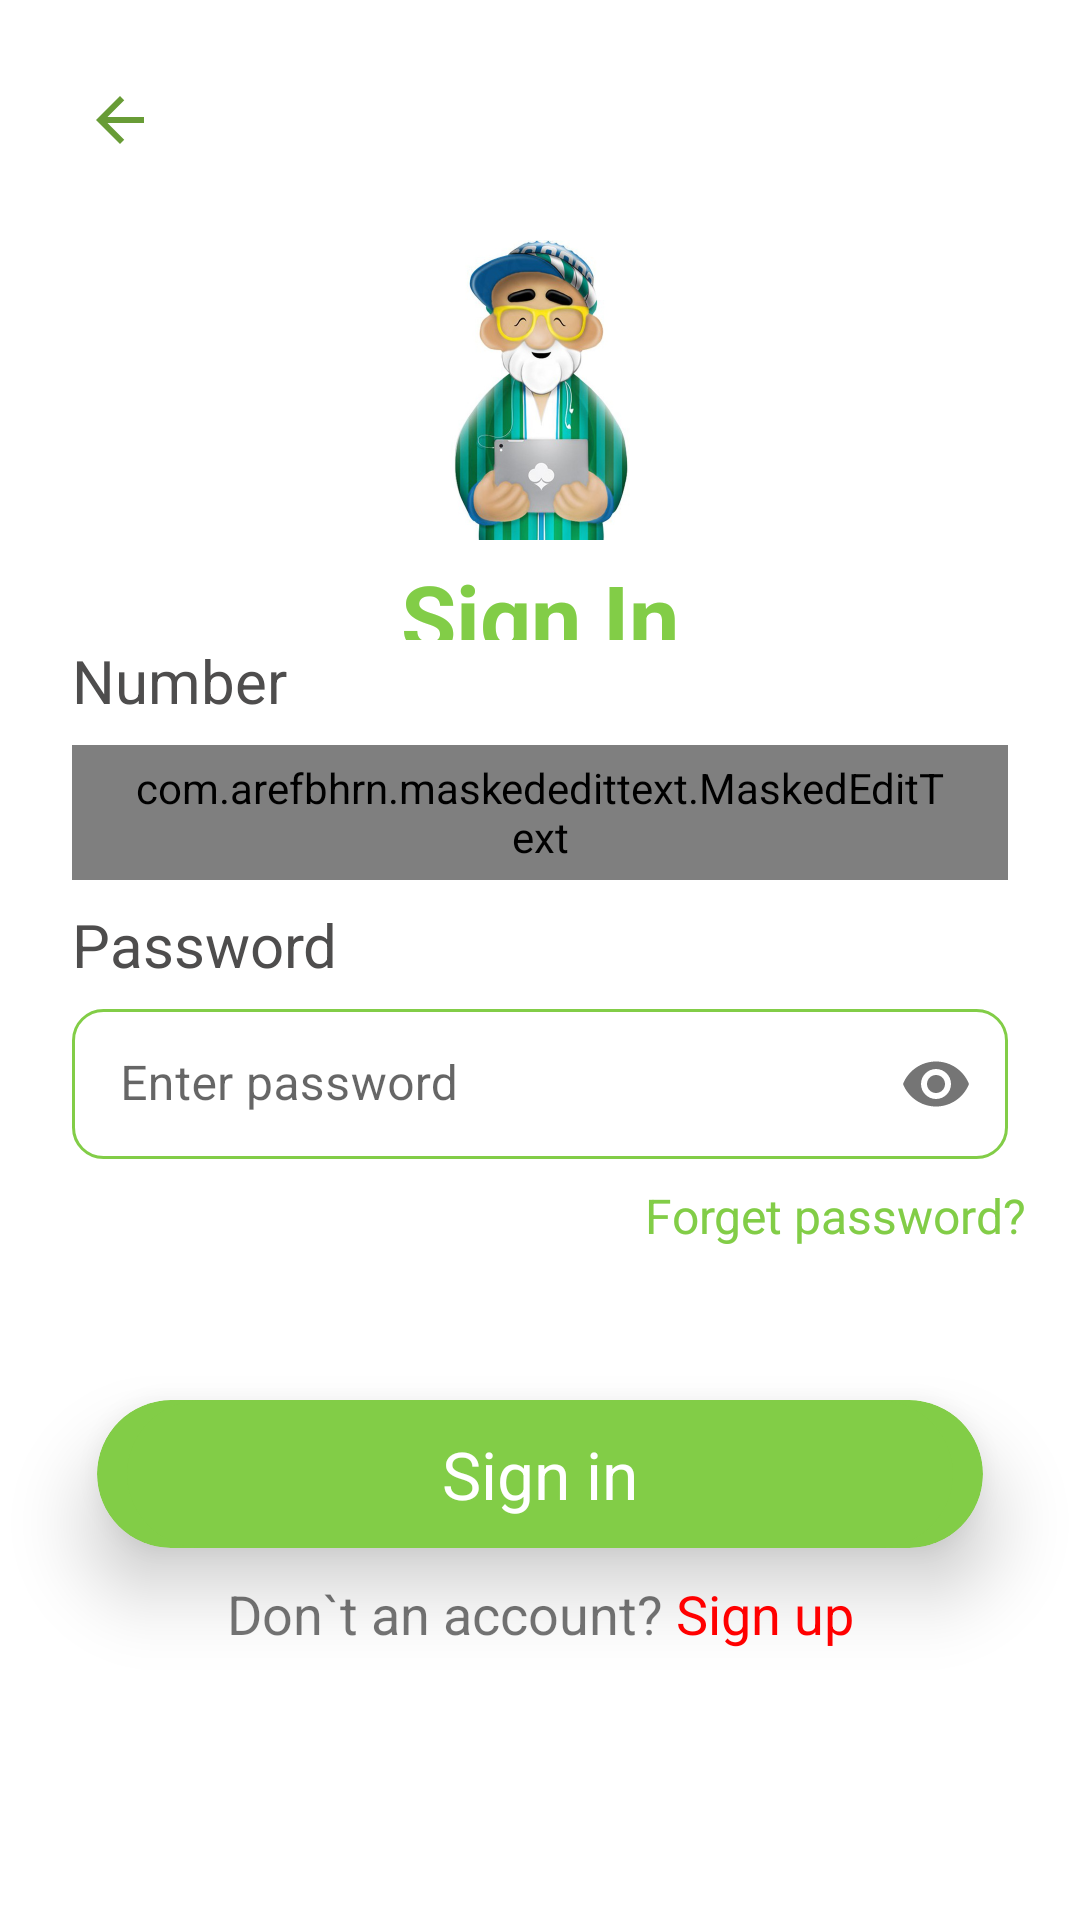

Icons on this 1080px x 1920px Android screen, each with its box as (x1=x1, y1=y1, x2=x2, y2=y2):
back: (x1=96, y1=96, x2=144, y2=144)
ustoz: (x1=455, y1=240, x2=628, y2=540)
